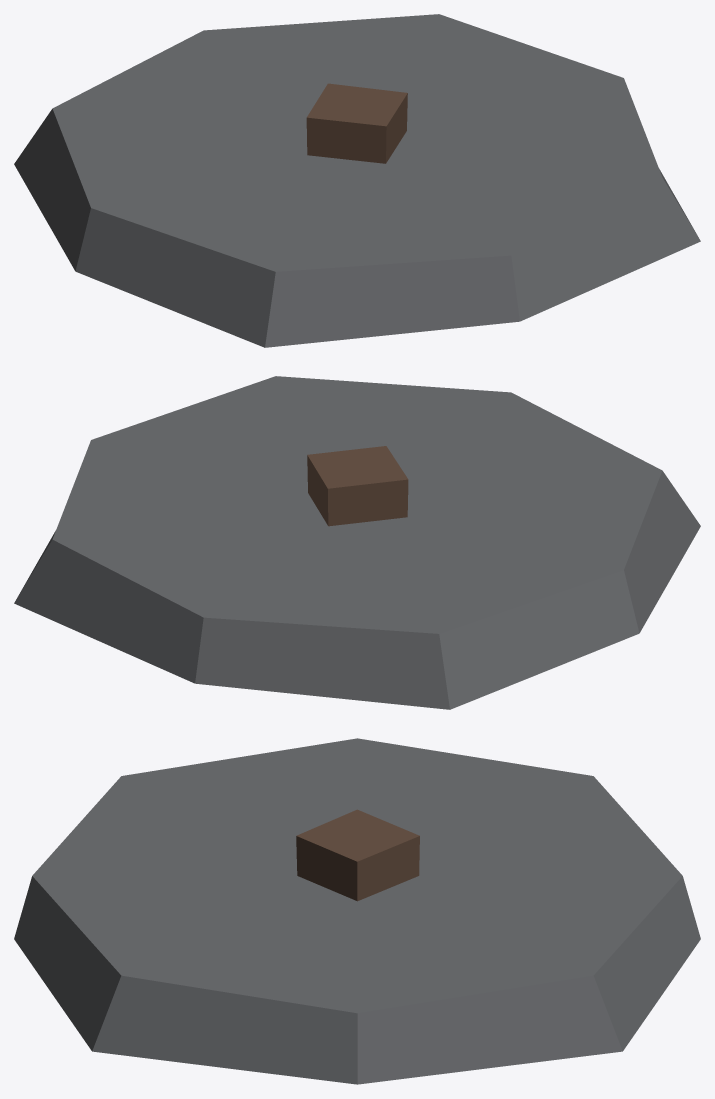
The model's file is lidSteelTallPot.fbx.
The picture shows the model from 3 angles, top to bottom: view 1: azimuth 30°, elevation 25°; view 2: azimuth 150°, elevation 25°; view 3: azimuth 270°, elevation 25°; orthographic projection. The views are drawn at different scales.
Visible parts, largest first — view 1: lidSteelTallPot; view 2: lidSteelTallPot; view 3: lidSteelTallPot.
Part boxes in pixels (bbox=[...]): lidSteelTallPot: bbox=[14, 14, 700, 347]; lidSteelTallPot: bbox=[14, 376, 700, 709]; lidSteelTallPot: bbox=[14, 738, 700, 1084].
Size of the model in its own units: 37.53 by 6.21 by 37.44.
Materials: 1 (1 with a texture image).
